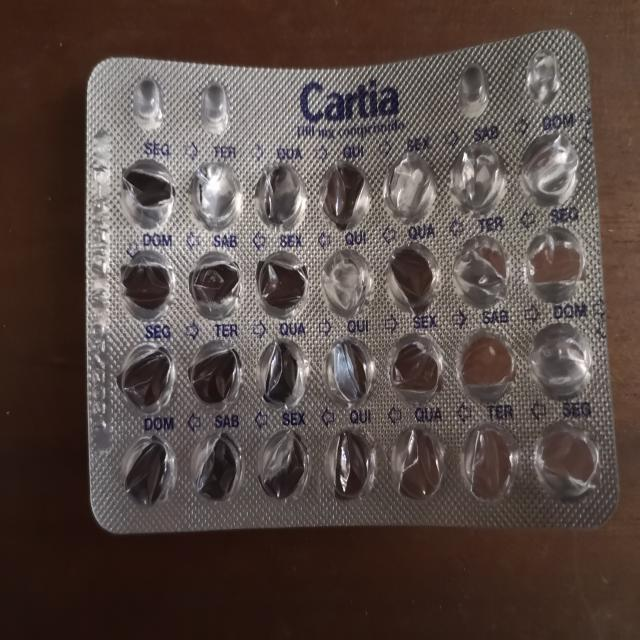Empty: (518, 229, 592, 311), (532, 422, 602, 506), (526, 321, 596, 404), (514, 133, 584, 212), (460, 419, 518, 512), (110, 341, 180, 418), (379, 238, 444, 320), (387, 422, 451, 504), (184, 430, 247, 512), (251, 429, 314, 511), (378, 150, 438, 236), (450, 233, 515, 312), (322, 421, 380, 508), (453, 332, 520, 406), (117, 433, 179, 512), (182, 158, 245, 233), (115, 246, 176, 323), (254, 245, 312, 325), (114, 155, 174, 232), (250, 158, 310, 234), (253, 338, 314, 411), (185, 340, 246, 413), (319, 334, 376, 408), (443, 147, 505, 213), (321, 241, 374, 318), (388, 334, 443, 408), (186, 250, 242, 322), (316, 157, 370, 231)
